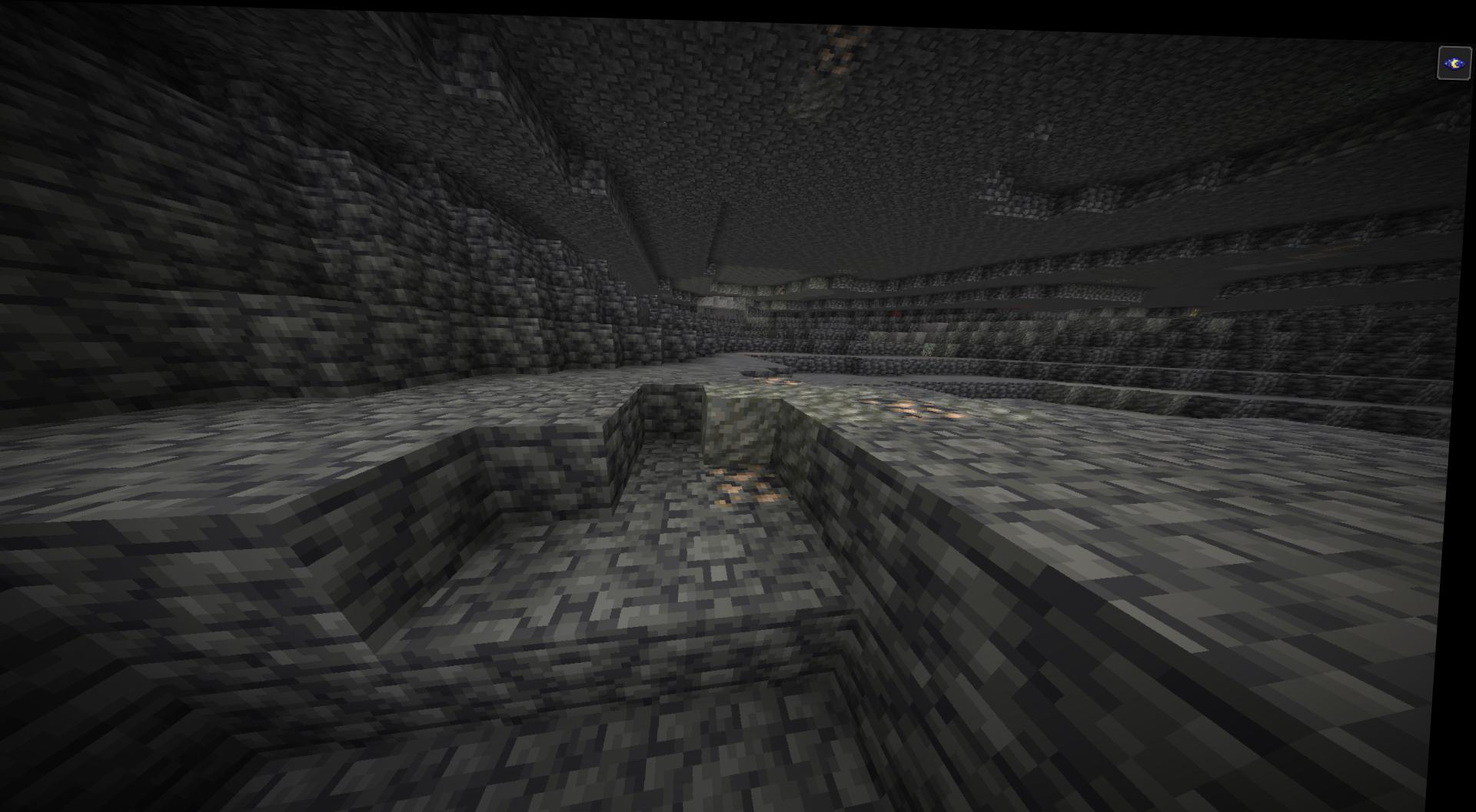iron ore: (812, 19, 891, 76), (710, 454, 792, 505), (871, 384, 963, 423)
